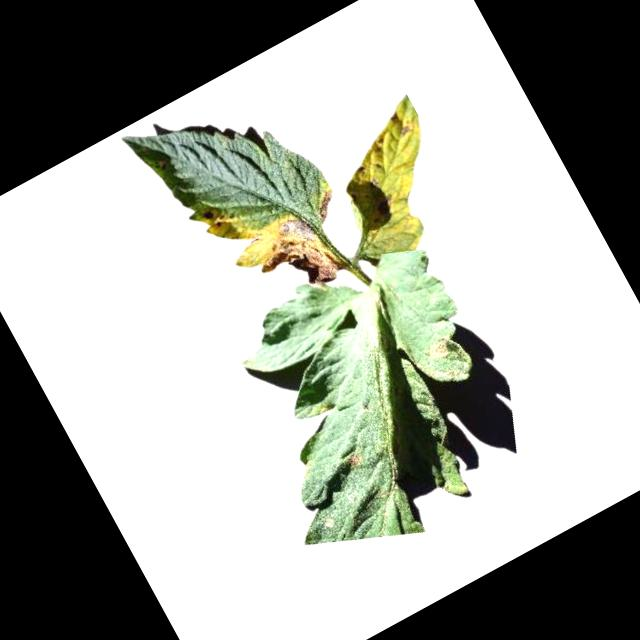Early_blight: (242, 205, 345, 312), (305, 186, 343, 224), (384, 105, 416, 142), (197, 196, 231, 227), (423, 333, 455, 361), (342, 447, 366, 471)
